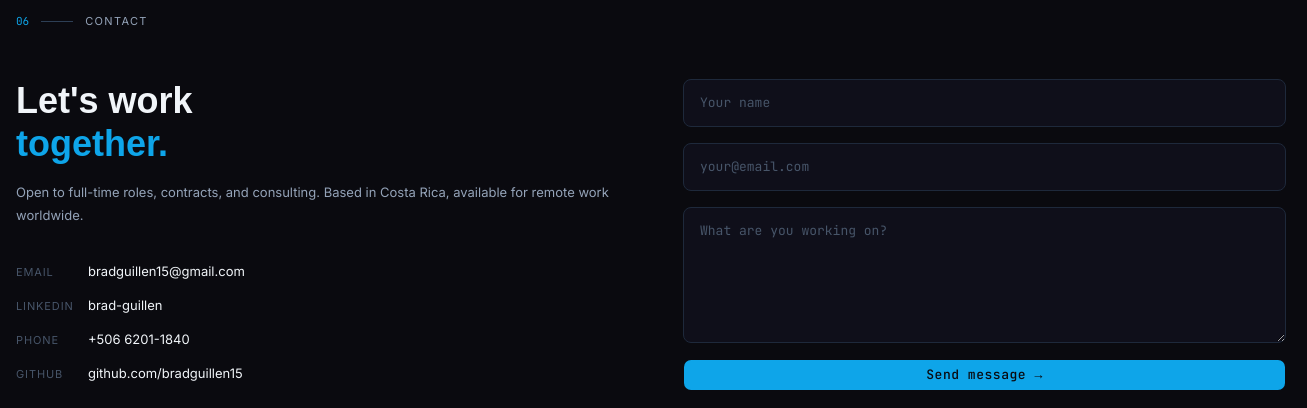
Test: Contact › shows success after a successful submit
Step 1. Type "Alex" into the field with placeholder "Your name" → (984, 103), box [683, 79, 1286, 127]
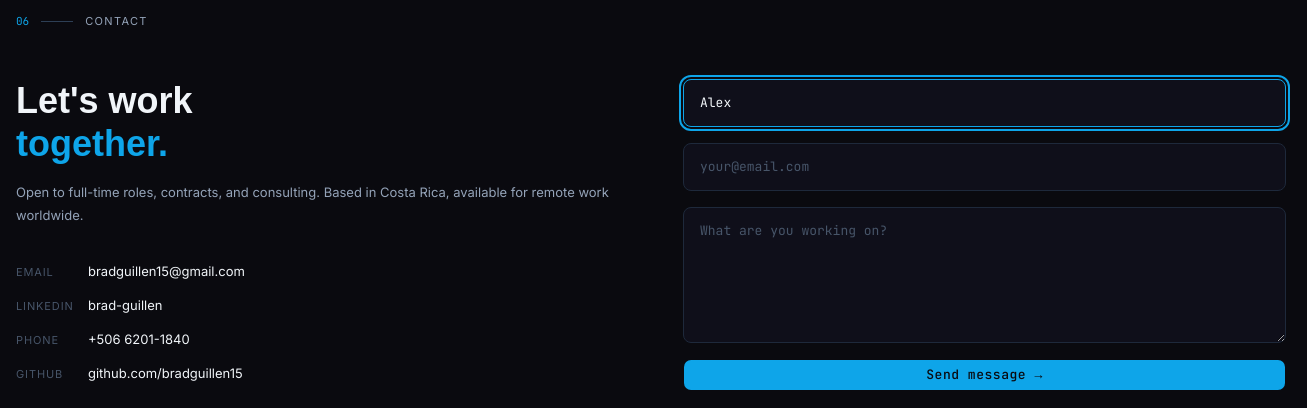
Step 2. Type "alex@example.com" into the field with placeholder "your@email.com" → (984, 167), box [683, 143, 1286, 191]
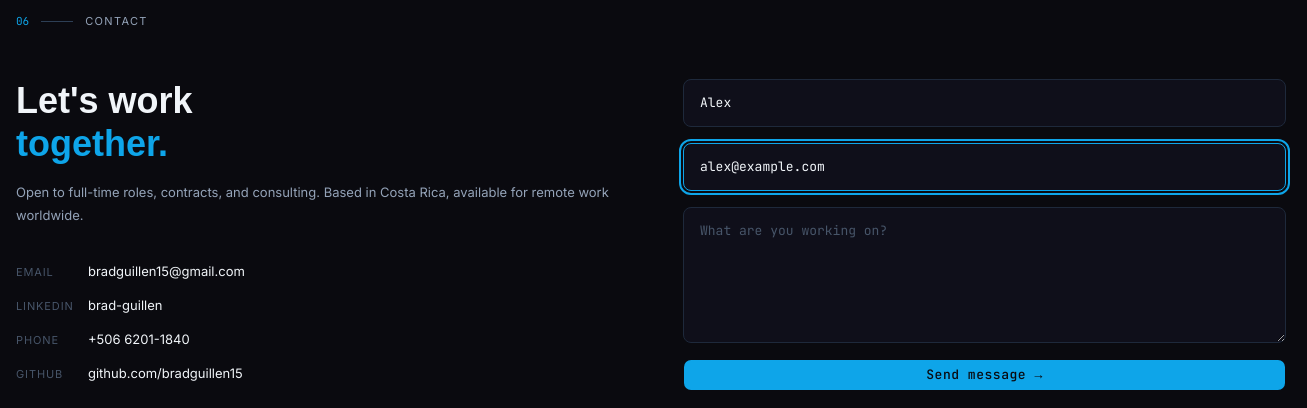
Step 3. Type "Hello" into the text box with placeholder "What are you working on?" → (984, 275), box [683, 207, 1286, 343]
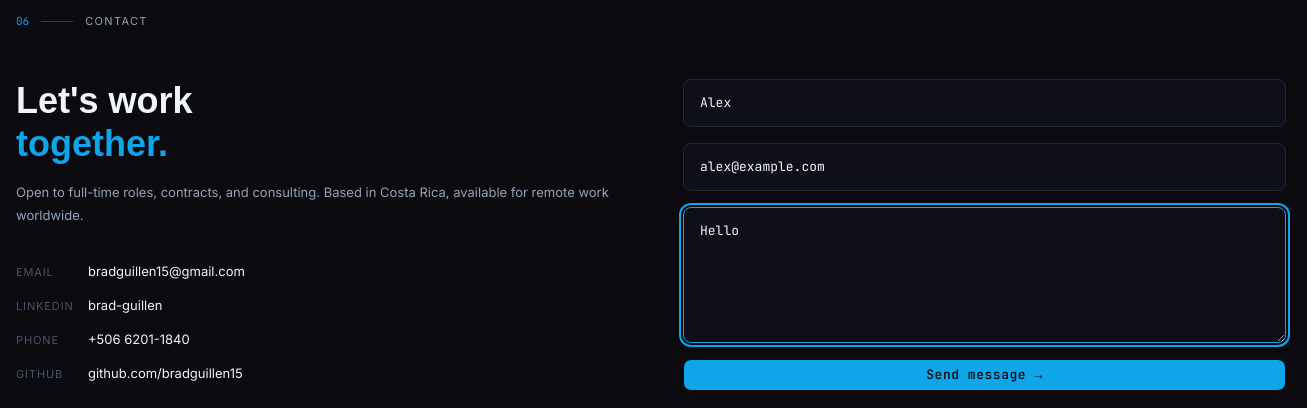
Step 4. Click the button "Send message →" → (984, 375), box [683, 359, 1286, 391]
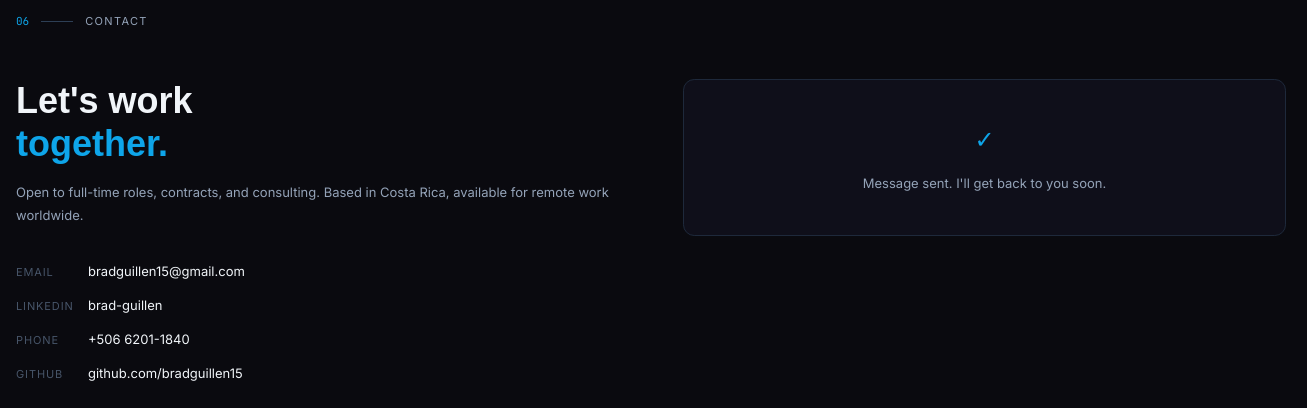
Now the text "Message sent. I'll get back to you soon." is shown, box [863, 176, 1106, 192]
